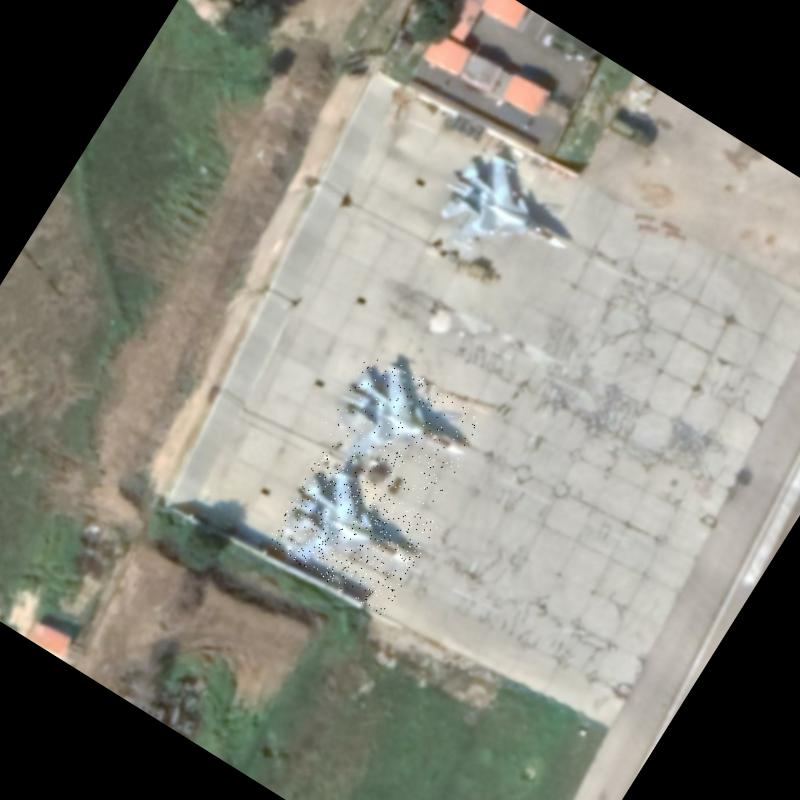A19: (314, 346, 490, 514), (264, 451, 439, 616), (423, 136, 595, 297)
